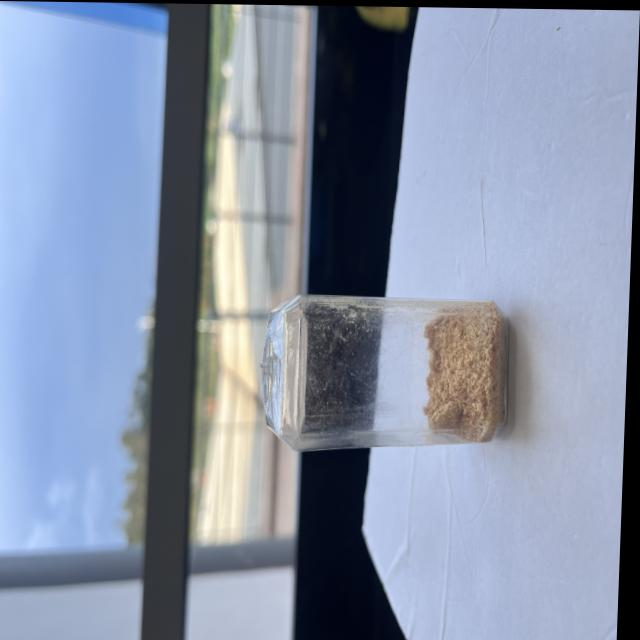garlic_powder: (419, 302, 515, 443)
